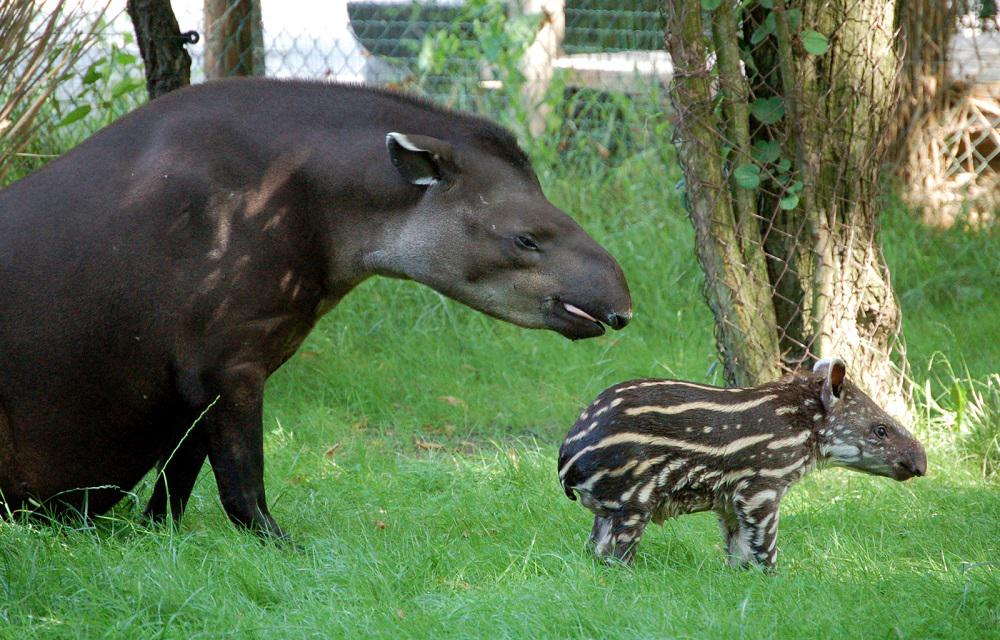Anta: (9, 63, 638, 555), (561, 358, 930, 573)
